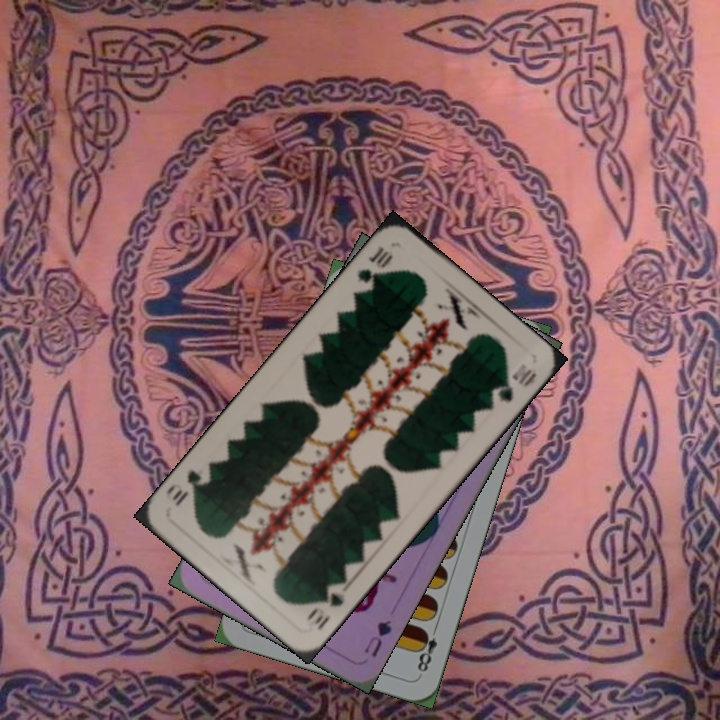E8: (413, 620, 441, 675)
G10: (353, 241, 396, 296), (301, 587, 346, 633)
GU: (360, 616, 395, 660)
